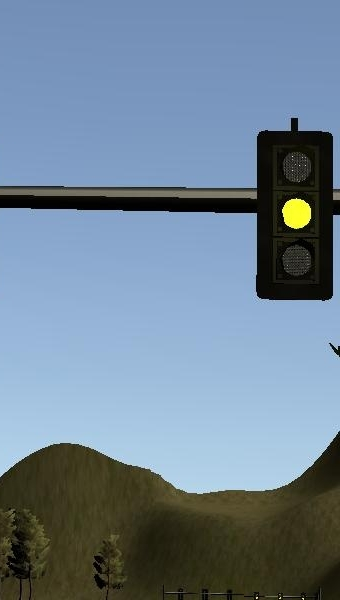Yellow: (257, 129, 334, 301)
